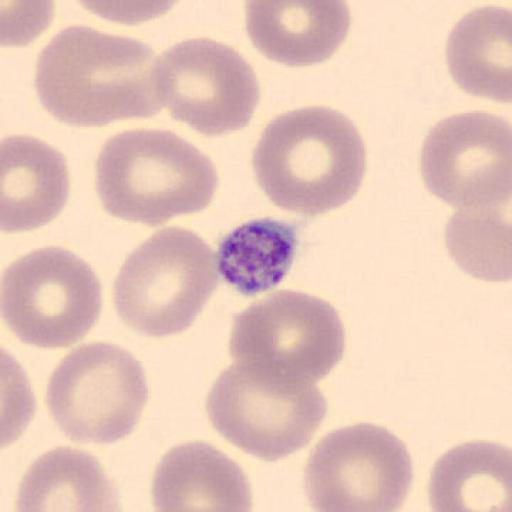Platelet: (210, 214, 302, 297)
RBC: (32, 22, 176, 130), (251, 102, 369, 217), (92, 126, 220, 228), (204, 358, 328, 463), (226, 288, 349, 392), (111, 224, 220, 339), (149, 34, 262, 139), (43, 339, 150, 448), (2, 244, 105, 350), (302, 419, 416, 512), (418, 108, 512, 211), (442, 160, 512, 284), (150, 437, 254, 512), (13, 443, 126, 512), (242, 0, 352, 69), (2, 132, 72, 235), (445, 3, 512, 104), (426, 437, 512, 512), (442, 203, 512, 284), (1, 348, 37, 449), (67, 0, 188, 27), (1, 0, 56, 49)
